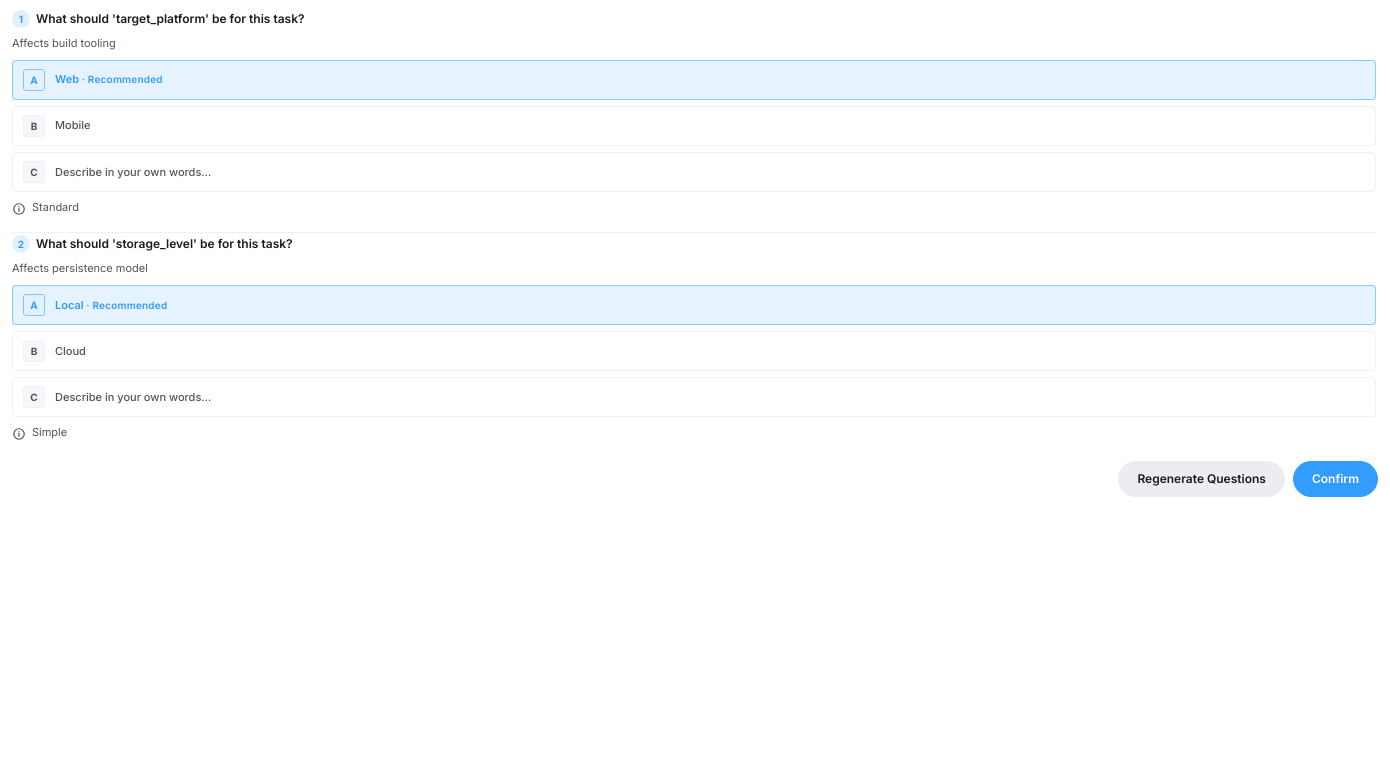
Test case: ClarifyPanel › shows error when apply-to-frame API fails
This screenshot has width=1390, height=768.
Click the button with test id "confirm-clarify": (1335, 479) top-left (1293, 461), bottom-right (1378, 497)
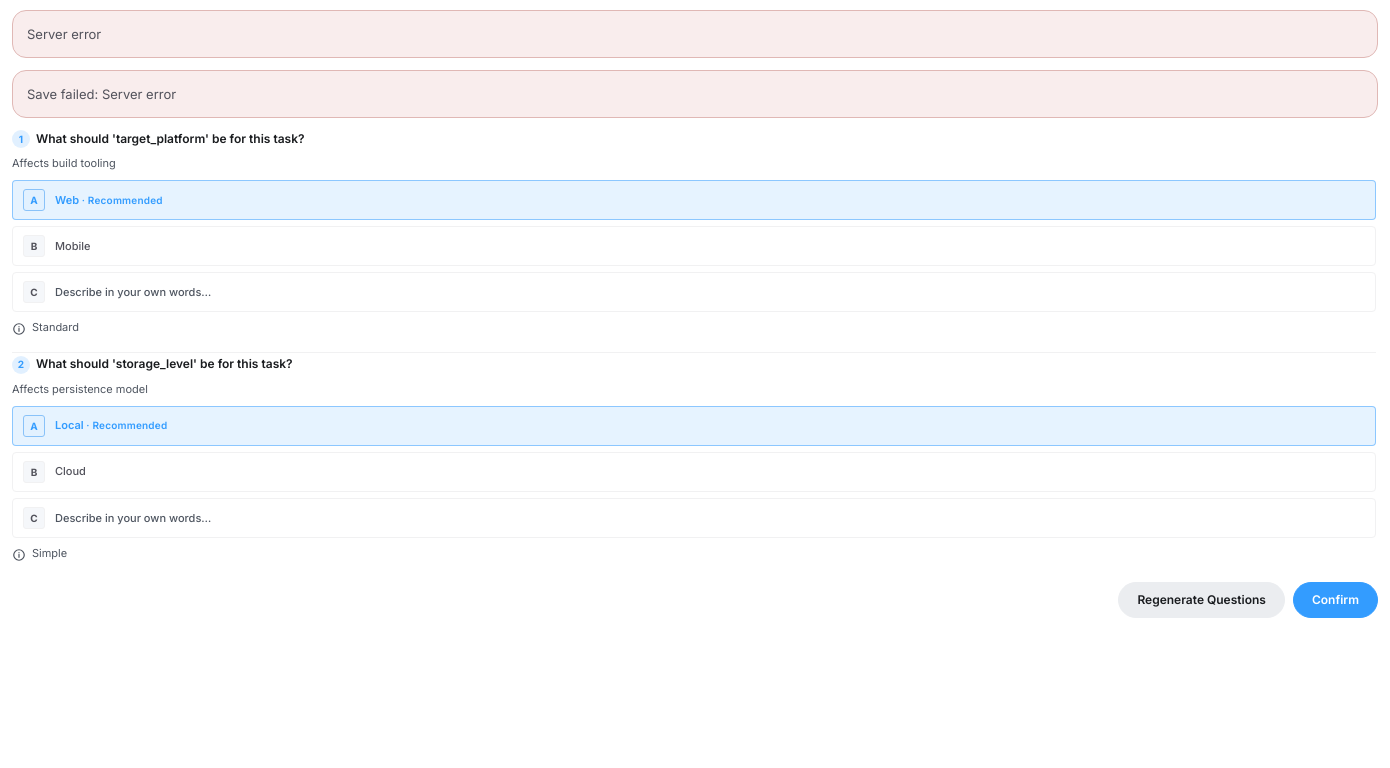
Check: the element with test id "confirm-error-clarify" reads "Server error", box top-left (27, 26), bottom-right (101, 42)
